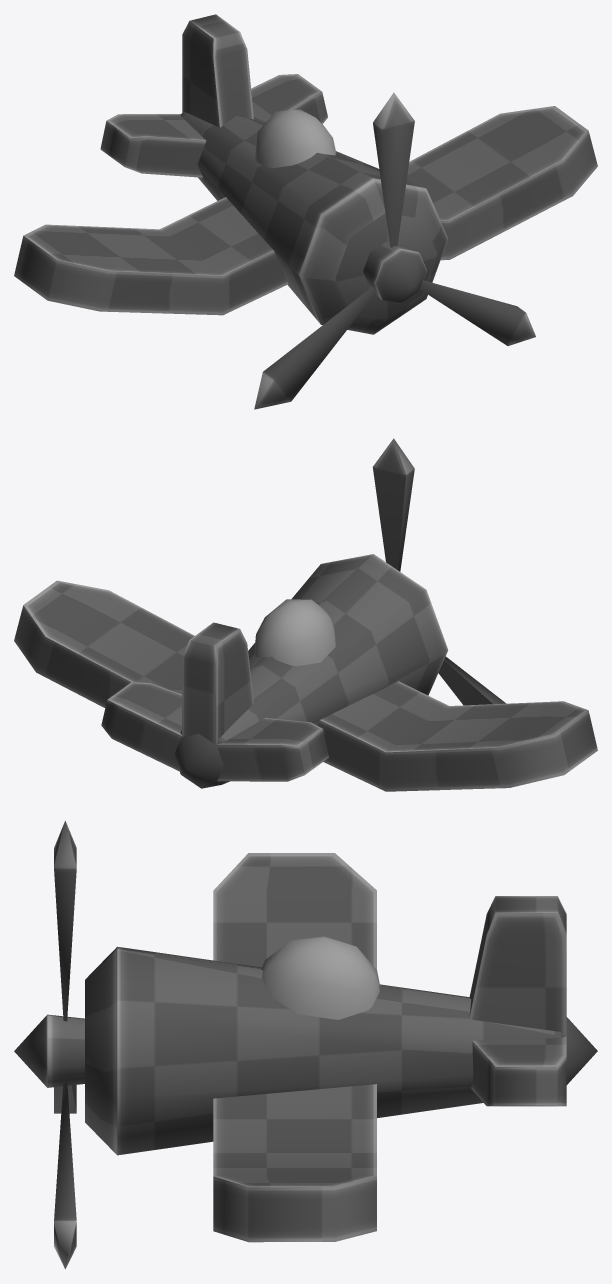
3 renders of one model, top to bottom at view 1: azimuth 30°, elevation 25°; view 2: azimuth 150°, elevation 25°; view 3: azimuth 270°, elevation 25°, orthographic. The views are drawn at different scales.
Parts seen in each view (by area): view 1: Flying_vehicle, Propeller; view 2: Flying_vehicle, Propeller; view 3: Flying_vehicle, Propeller.
Boxes of the visible parts, x1,y1,x2,y2 form: Flying_vehicle: [14, 14, 597, 334]; Propeller: [254, 92, 535, 409]; Flying_vehicle: [14, 554, 597, 791]; Propeller: [372, 438, 505, 705]; Flying_vehicle: [85, 853, 597, 1242]; Propeller: [14, 821, 84, 1269].
Bounding box in the file's own units: 118 × 58.2 × 84.42.
